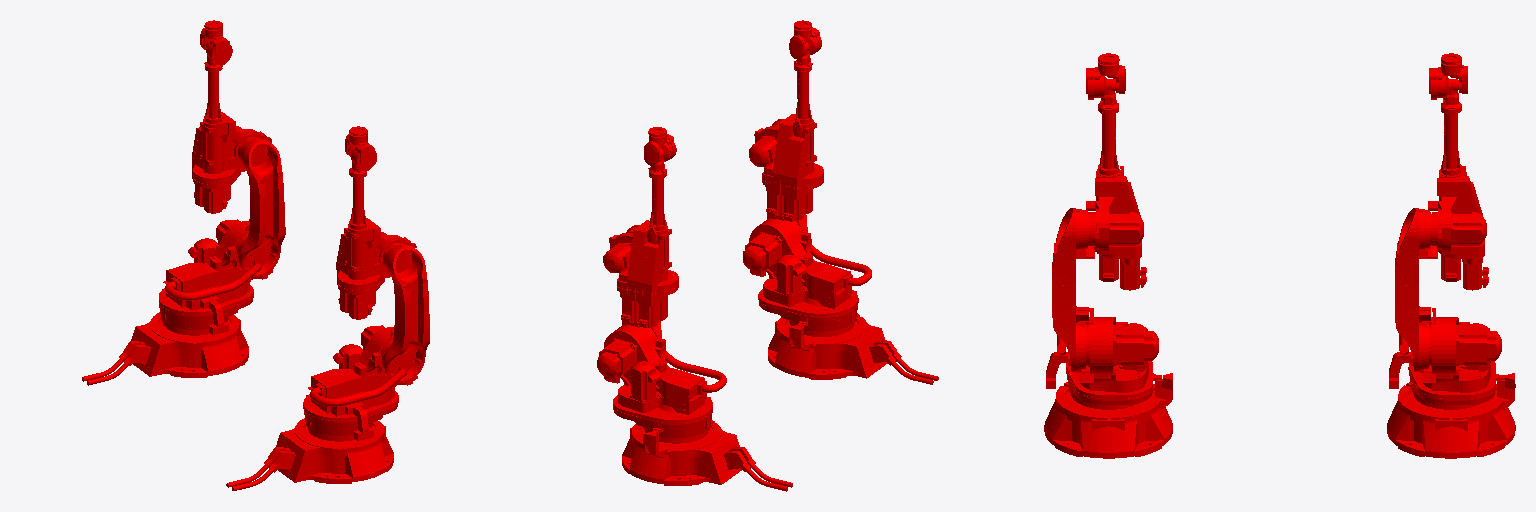
robot.urdf — Smart_NM45_Dual:
<?xml version="1.0" ?>
<!-- =================================================================================== -->
<!-- |    This document was autogenerated by xacro from NM45_teleop_dual.xacro         | -->
<!-- |    EDITING THIS FILE BY HAND IS NOT RECOMMENDED                                 | -->
<!-- =================================================================================== -->
<robot name="Smart_NM45_Dual" xmlns:xacro="http://ros.org/wiki/xacro">
  <link name="base_link">
		</link>
  <link name="link0_1">
    <visual>
      <geometry>
        <mesh filename="package://comau_config/meshes/visual/NM-45_Base.STL"/>
      </geometry>
      <material name="red">
        <color rgba="1 0 0 1"/>
      </material>
    </visual>
    <collision>
      <geometry>
        <mesh filename="package://comau_config/meshes/collision/NM-45_Base_CH.STL"/>
      </geometry>
      <material name="yellow">
        <color rgba="0 1 1 1"/>
      </material>
    </collision>
  </link>
  <link name="link1_1">
    <visual>
      <origin rpy="0 0 0" xyz="0 0 0"/>
      <geometry>
        <mesh filename="package://comau_config/meshes/visual/NM-45_Link1.STL"/>
      </geometry>
      <material name="red">
        <color rgba="1 0 0 1"/>
      </material>
    </visual>
    <collision>
      <origin rpy="0 0 0" xyz="0 0 0"/>
      <geometry>
        <mesh filename="package://comau_config/meshes/collision/NM-45_Link1_CH.STL"/>
      </geometry>
      <material name="yellow"/>
    </collision>
  </link>
  <link name="link2_1">
    <visual>
      <origin rpy="0 0 0" xyz="0 0 0"/>
      <geometry>
        <mesh filename="package://comau_config/meshes/visual/NM-45_Link2.STL"/>
      </geometry>
      <material name="red"/>
    </visual>
    <collision>
      <origin rpy="0 0 0" xyz="0 0 0"/>
      <geometry>
        <mesh filename="package://comau_config/meshes/collision/NM-45_Link2_CH.STL"/>
      </geometry>
      <material name="yellow"/>
    </collision>
  </link>
  <link name="link3_1">
    <visual>
      <origin rpy="0 0 0" xyz="0 0 0"/>
      <geometry>
        <mesh filename="package://comau_config/meshes/visual/NM-45_Link3.STL"/>
      </geometry>
      <material name="red"/>
    </visual>
    <collision>
      <origin rpy="0 0 0" xyz="0 0 0"/>
      <geometry>
        <mesh filename="package://comau_config/meshes/collision/NM-45_Link3_CH.STL"/>
      </geometry>
      <material name="yellow"/>
    </collision>
  </link>
  <link name="link4_1">
    <visual>
      <origin rpy="0 0 0" xyz="0 0 0"/>
      <geometry>
        <mesh filename="package://comau_config/meshes/visual/NM-45_Link4.STL"/>
      </geometry>
      <material name="red"/>
    </visual>
    <collision>
      <origin rpy="0 0 0" xyz="0 0 0"/>
      <geometry>
        <mesh filename="package://comau_config/meshes/collision/NM-45_Link4_CH.STL"/>
      </geometry>
      <material name="yellow"/>
    </collision>
  </link>
  <link name="link5_1">
    <visual>
      <origin rpy="0 0 0" xyz="0 0 0"/>
      <geometry>
        <mesh filename="package://comau_config/meshes/visual/NM-45_Link5.STL"/>
      </geometry>
      <material name="red"/>
    </visual>
    <collision>
      <origin rpy="0 0 0" xyz="0 0 0"/>
      <geometry>
        <mesh filename="package://comau_config/meshes/collision/NM-45_Link5_CH.STL"/>
      </geometry>
      <material name="yellow"/>
    </collision>
  </link>
  <link name="link6_1">
    <visual>
      <origin rpy="0 0 0" xyz="0 0 0"/>
      <geometry>
        <mesh filename="package://comau_config/meshes/visual/NM-45_Link6.STL"/>
      </geometry>
      <material name="red"/>
    </visual>
    <collision>
      <origin rpy="0 0 0" xyz="0 0 0"/>
      <geometry>
        <mesh filename="package://comau_config/meshes/collision/NM-45_Link6_CH.STL"/>
      </geometry>
      <material name="yellow"/>
    </collision>
  </link>
  <link name="link0_2">
    <visual>
      <origin rpy="0 0 0" xyz="0 0 0"/>
      <geometry>
        <mesh filename="package://comau_config/meshes/visual/NM-45_Base.STL"/>
      </geometry>
      <material name="red">
        <color rgba="1 0 0 1"/>
      </material>
    </visual>
    <collision>
      <geometry>
        <mesh filename="package://comau_config/meshes/collision/NM-45_Base_CH.STL"/>
      </geometry>
      <material name="yellow">
        <color rgba="0 1 1 1"/>
      </material>
    </collision>
  </link>
  <link name="link1_2">
    <visual>
      <origin rpy="0 0 0" xyz="0 0 0"/>
      <geometry>
        <mesh filename="package://comau_config/meshes/visual/NM-45_Link1.STL"/>
      </geometry>
      <material name="red">
        <color rgba="1 0 0 1"/>
      </material>
    </visual>
    <collision>
      <origin rpy="0 0 0" xyz="0 0 0"/>
      <geometry>
        <mesh filename="package://comau_config/meshes/collision/NM-45_Link1_CH.STL"/>
      </geometry>
      <material name="yellow"/>
    </collision>
  </link>
  <link name="link2_2">
    <visual>
      <origin rpy="0 0 0" xyz="0 0 0"/>
      <geometry>
        <mesh filename="package://comau_config/meshes/visual/NM-45_Link2.STL"/>
      </geometry>
      <material name="red"/>
    </visual>
    <collision>
      <origin rpy="0 0 0" xyz="0 0 0"/>
      <geometry>
        <mesh filename="package://comau_config/meshes/collision/NM-45_Link2_CH.STL"/>
      </geometry>
      <material name="yellow"/>
    </collision>
  </link>
  <link name="link3_2">
    <visual>
      <origin rpy="0 0 0" xyz="0 0 0"/>
      <geometry>
        <mesh filename="package://comau_config/meshes/visual/NM-45_Link3.STL"/>
      </geometry>
      <material name="red"/>
    </visual>
    <collision>
      <origin rpy="0 0 0" xyz="0 0 0"/>
      <geometry>
        <mesh filename="package://comau_config/meshes/collision/NM-45_Link3_CH.STL"/>
      </geometry>
      <material name="yellow"/>
    </collision>
  </link>
  <link name="link4_2">
    <visual>
      <origin rpy="0 0 0" xyz="0 0 0"/>
      <geometry>
        <mesh filename="package://comau_config/meshes/visual/NM-45_Link4.STL"/>
      </geometry>
      <material name="red"/>
    </visual>
    <collision>
      <origin rpy="0 0 0" xyz="0 0 0"/>
      <geometry>
        <mesh filename="package://comau_config/meshes/collision/NM-45_Link4_CH.STL"/>
      </geometry>
      <material name="yellow"/>
    </collision>
  </link>
  <link name="link5_2">
    <visual>
      <origin rpy="0 0 0" xyz="0 0 0"/>
      <geometry>
        <mesh filename="package://comau_config/meshes/visual/NM-45_Link5.STL"/>
      </geometry>
      <material name="red"/>
    </visual>
    <collision>
      <origin rpy="0 0 0" xyz="0 0 0"/>
      <geometry>
        <mesh filename="package://comau_config/meshes/collision/NM-45_Link5_CH.STL"/>
      </geometry>
      <material name="yellow"/>
    </collision>
  </link>
  <link name="link6_2">
    <visual>
      <origin rpy="0 0 0" xyz="0 0 0"/>
      <geometry>
        <mesh filename="package://comau_config/meshes/visual/NM-45_Link6.STL"/>
      </geometry>
      <material name="red"/>
    </visual>
    <collision>
      <origin rpy="0 0 0" xyz="0 0 0"/>
      <geometry>
        <mesh filename="package://comau_config/meshes/collision/NM-45_Link6_CH.STL"/>
      </geometry>
      <material name="yellow"/>
    </collision>
  </link>
  <joint name="joint0_1" type="fixed">
    <parent link="base_link"/>
    <child link="link0_1"/>
    <origin rpy="0 0 0" xyz="0 0 0"/>
  </joint>
  <joint name="joint1_1" type="revolute">
    <parent link="link0_1"/>
    <child link="link1_1"/>
    <origin rpy="0 0 0" xyz="0 0 0.305"/>
    <axis xyz="0 0 -1"/>
    <limit effort="100" lower="-3.1416" upper="3.1416" velocity="2.26"/>
  </joint>
  <joint name="joint2_1" type="revolute">
    <parent link="link1_1"/>
    <child link="link2_1"/>
    <origin rpy="0 -1.57 0" xyz="0.4 -0.130 0.445"/>
    <axis xyz="0 1 0"/>
    <limit effort="100" lower="-0.733" upper="2.269" velocity="2.26"/>
  </joint>
  <joint name="joint3_1" type="revolute">
    <parent link="link2_1"/>
    <child link="link3_1"/>
    <origin rpy="0 0 0" xyz="0.75 0.01 0"/>
    <axis xyz="0 -1 0"/>
    <limit effort="100" lower="-2.967" upper="1.92" velocity="2.96"/>
  </joint>
  <joint name="joint4_1" type="revolute">
    <parent link="link3_1"/>
    <child link="link4_1"/>
    <origin rpy="0 0 0" xyz="0.234 0.120 0.250"/>
    <axis xyz="-1 0 0"/>
    <limit effort="100" lower="-3.1416" upper="3.1416" velocity="2.96"/>
  </joint>
  <joint name="joint5_1" type="revolute">
    <parent link="link4_1"/>
    <child link="link5_1"/>
    <origin rpy="0 0 0" xyz="0.578 0 0"/>
    <axis xyz="0 1 0"/>
    <limit effort="100" lower="-2.147" upper="2.147" velocity="3.48"/>
  </joint>
  <joint name="joint6_1" type="revolute">
    <parent link="link5_1"/>
    <child link="link6_1"/>
    <origin rpy="0 0 0" xyz="0.150 0 0"/>
    <axis xyz="-1 0 0"/>
    <limit effort="100" lower="-3.1416" upper="3.1416" velocity="3.48"/>
  </joint>
  <joint name="joint0_2" type="fixed">
    <parent link="base_link"/>
    <child link="link0_2"/>
    <origin rpy="0 0 0" xyz="0 -2 0"/>
  </joint>
  <joint name="joint1_2" type="revolute">
    <parent link="link0_2"/>
    <child link="link1_2"/>
    <origin rpy="0 0 0" xyz="0 0 0.305"/>
    <axis xyz="0 0 -1"/>
    <limit effort="100" lower="-3.1416" upper="3.1416" velocity="2.26"/>
  </joint>
  <joint name="joint2_2" type="revolute">
    <parent link="link1_2"/>
    <child link="link2_2"/>
    <origin rpy="0 -1.57 0" xyz="0.4 -0.130 0.445"/>
    <axis xyz="0 1 0"/>
    <limit effort="100" lower="-0.733" upper="2.269" velocity="2.26"/>
  </joint>
  <joint name="joint3_2" type="revolute">
    <parent link="link2_2"/>
    <child link="link3_2"/>
    <origin rpy="0 0 0" xyz="0.75 0.01 0"/>
    <axis xyz="0 -1 0"/>
    <limit effort="100" lower="-2.967" upper="1.92" velocity="2.96"/>
  </joint>
  <joint name="joint4_2" type="revolute">
    <parent link="link3_2"/>
    <child link="link4_2"/>
    <origin rpy="0 0 0" xyz="0.234 0.120 0.250"/>
    <axis xyz="-1 0 0"/>
    <limit effort="100" lower="-3.1416" upper="3.1416" velocity="2.96"/>
  </joint>
  <joint name="joint5_2" type="revolute">
    <parent link="link4_2"/>
    <child link="link5_2"/>
    <origin rpy="0 0 0" xyz="0.578 0 0"/>
    <axis xyz="0 1 0"/>
    <limit effort="100" lower="-2.147" upper="2.147" velocity="3.48"/>
  </joint>
  <joint name="joint6_2" type="revolute">
    <parent link="link5_2"/>
    <child link="link6_2"/>
    <origin rpy="0 0 0" xyz="0.150 0 0"/>
    <axis xyz="-1 0 0"/>
    <limit effort="100" lower="-3.1416" upper="3.1416" velocity="3.48"/>
  </joint>
  <link name="finger_1_link_0">
    <visual>
      <origin rpy="0 0 0" xyz="0.020 0 0"/>
      <geometry>
        <mesh filename="package://robotiq_s_model_visualization/meshes/s-model_articulated/visual/link_0.STL"/>
      </geometry>
      <material name="green">
        <color rgba="0 1 0 1"/>
      </material>
    </visual>
    <collision>
      <origin rpy="0 3.1416 -1.57" xyz="-0.0455 0.0414 0.036"/>
      <geometry>
        <mesh filename="package://robotiq_s_model_visualization/meshes/s-model_articulated/collision/link_0.STL"/>
      </geometry>
      <material name="yellow">
        <color rgba="0 1 1 1"/>
      </material>
    </collision>
  </link>
  <link name="finger_1_link_1">
    <visual>
      <origin rpy="0 0 -0.52" xyz="0.050 -.028 0"/>
      <geometry>
        <mesh filename="package://robotiq_s_model_visualization/meshes/s-model_articulated/visual/link_1.STL"/>
      </geometry>
      <material name="green"/>
    </visual>
    <collision>
      <origin rpy="0 0 -0.52" xyz="0.050 -.028 0"/>
      <geometry>
        <mesh filename="package://robotiq_s_model_visualization/meshes/s-model_articulated/collision/link_1.STL"/>
      </geometry>
      <material name="yellow"/>
    </collision>
  </link>
  <link name="finger_1_link_2">
    <!--
			NOTE: This link has an offset in the z-direction based on the models that were
			used to generate grap-it poses.  With the offset below the model appears visually
			correct, but it is suspect.
			-->
    <visual>
      <origin rpy="0 0 0" xyz="0.039 0 0.0075"/>
      <geometry>
        <mesh filename="package://robotiq_s_model_visualization/meshes/s-model_articulated/visual/link_2.STL"/>
      </geometry>
      <material name="green"/>
    </visual>
    <collision>
      <origin rpy="0 0 0" xyz="0.039 0 0.0075"/>
      <geometry>
        <mesh filename="package://robotiq_s_model_visualization/meshes/s-model_articulated/collision/link_2.STL"/>
      </geometry>
      <material name="yellow"/>
    </collision>
  </link>
  <link name="finger_1_link_3">
    <visual>
      <origin rpy="0 0 0.52" xyz="0 0 0"/>
      <geometry>
        <mesh filename="package://robotiq_s_model_visualization/meshes/s-model_articulated/visual/link_3.STL"/>
      </geometry>
      <material name="green"/>
    </visual>
    <collision>
      <origin rpy="0 0 0.52" xyz="0 0 0"/>
      <geometry>
        <mesh filename="package://robotiq_s_model_visualization/meshes/s-model_articulated/collision/link_3.STL"/>
      </geometry>
      <material name="yellow"/>
    </collision>
  </link>
  <joint name="finger_1_joint_1" type="revolute">
    <parent link="finger_1_link_0"/>
    <child link="finger_1_link_1"/>
    <axis xyz="0 0 1"/>
    <origin rpy="0 0 0" xyz="0.020 0 0"/>
    <limit effort="100" lower="0" upper="3.1416" velocity="100"/>
  </joint>
  <joint name="finger_1_joint_2" type="revolute">
    <parent link="finger_1_link_1"/>
    <child link="finger_1_link_2"/>
    <axis xyz="0 0 1"/>
    <origin rpy="0 0 -0.52" xyz="0.050 -.028 0"/>
    <limit effort="100" lower="0" upper="3.1416" velocity="100"/>
  </joint>
  <joint name="finger_1_joint_3" type="revolute">
    <parent link="finger_1_link_2"/>
    <child link="finger_1_link_3"/>
    <axis xyz="0 0 1"/>
    <origin rpy="0 0 0" xyz="0.039 0 0"/>
    <limit effort="100" lower="0" upper="3.1416" velocity="100"/>
  </joint>
  <link name="finger_2_link_0">
    <visual>
      <origin rpy="0 0 0" xyz="0.020 0 0"/>
      <geometry>
        <mesh filename="package://robotiq_s_model_visualization/meshes/s-model_articulated/visual/link_0.STL"/>
      </geometry>
      <material name="green">
        <color rgba="0 1 0 1"/>
      </material>
    </visual>
    <collision>
      <origin rpy="0 3.1416 -1.57" xyz="-0.0455 0.0414 0.036"/>
      <geometry>
        <mesh filename="package://robotiq_s_model_visualization/meshes/s-model_articulated/collision/link_0.STL"/>
      </geometry>
      <material name="yellow">
        <color rgba="0 1 1 1"/>
      </material>
    </collision>
  </link>
  <link name="finger_2_link_1">
    <visual>
      <origin rpy="0 0 -0.52" xyz="0.050 -.028 0"/>
      <geometry>
        <mesh filename="package://robotiq_s_model_visualization/meshes/s-model_articulated/visual/link_1.STL"/>
      </geometry>
      <material name="green"/>
    </visual>
    <collision>
      <origin rpy="0 0 -0.52" xyz="0.050 -.028 0"/>
      <geometry>
        <mesh filename="package://robotiq_s_model_visualization/meshes/s-model_articulated/collision/link_1.STL"/>
      </geometry>
      <material name="yellow"/>
    </collision>
  </link>
  <link name="finger_2_link_2">
    <!--
			NOTE: This link has an offset in the z-direction based on the models that were
			used to generate grap-it poses.  With the offset below the model appears visually
			correct, but it is suspect.
			-->
    <visual>
      <origin rpy="0 0 0" xyz="0.039 0 0.0075"/>
      <geometry>
        <mesh filename="package://robotiq_s_model_visualization/meshes/s-model_articulated/visual/link_2.STL"/>
      </geometry>
      <material name="green"/>
    </visual>
    <collision>
      <origin rpy="0 0 0" xyz="0.039 0 0.0075"/>
      <geometry>
        <mesh filename="package://robotiq_s_model_visualization/meshes/s-model_articulated/collision/link_2.STL"/>
      </geometry>
      <material name="yellow"/>
    </collision>
  </link>
  <link name="finger_2_link_3">
    <visual>
      <origin rpy="0 0 0.52" xyz="0 0 0"/>
      <geometry>
        <mesh filename="package://robotiq_s_model_visualization/meshes/s-model_articulated/visual/link_3.STL"/>
      </geometry>
      <material name="green"/>
    </visual>
    <collision>
      <origin rpy="0 0 0.52" xyz="0 0 0"/>
      <geometry>
        <mesh filename="package://robotiq_s_model_visualization/meshes/s-model_articulated/collision/link_3.STL"/>
      </geometry>
      <material name="yellow"/>
    </collision>
  </link>
  <joint name="finger_2_joint_1" type="revolute">
    <parent link="finger_2_link_0"/>
    <child link="finger_2_link_1"/>
    <axis xyz="0 0 1"/>
    <origin rpy="0 0 0" xyz="0.020 0 0"/>
    <limit effort="100" lower="0" upper="3.1416" velocity="100"/>
  </joint>
  <joint name="finger_2_joint_2" type="revolute">
    <parent link="finger_2_link_1"/>
    <child link="finger_2_link_2"/>
    <axis xyz="0 0 1"/>
    <origin rpy="0 0 -0.52" xyz="0.050 -.028 0"/>
    <limit effort="100" lower="0" upper="3.1416" velocity="100"/>
  </joint>
  <joint name="finger_2_joint_3" type="revolute">
    <parent link="finger_2_link_2"/>
    <child link="finger_2_link_3"/>
    <axis xyz="0 0 1"/>
    <origin rpy="0 0 0" xyz="0.039 0 0"/>
    <limit effort="100" lower="0" upper="3.1416" velocity="100"/>
  </joint>
  <link name="finger_middle_link_0">
    <visual>
      <origin rpy="0 0 0" xyz="0.020 0 0"/>
      <geometry>
        <mesh filename="package://robotiq_s_model_visualization/meshes/s-model_articulated/visual/link_0.STL"/>
      </geometry>
      <material name="green">
        <color rgba="0 1 0 1"/>
      </material>
    </visual>
    <collision>
      <origin rpy="0 3.1416 -1.57" xyz="-0.0455 0.0414 0.036"/>
      <geometry>
        <mesh filename="package://robotiq_s_model_visualization/meshes/s-model_articulated/collision/link_0.STL"/>
      </geometry>
      <material name="yellow">
        <color rgba="0 1 1 1"/>
      </material>
    </collision>
  </link>
  <link name="finger_middle_link_1">
    <visual>
      <origin rpy="0 0 -0.52" xyz="0.050 -.028 0"/>
      <geometry>
        <mesh filename="package://robotiq_s_model_visualization/meshes/s-model_articulated/visual/link_1.STL"/>
      </geometry>
      <material name="green"/>
    </visual>
    <collision>
      <origin rpy="0 0 -0.52" xyz="0.050 -.028 0"/>
      <geometry>
        <mesh filename="package://robotiq_s_model_visualization/meshes/s-model_articulated/collision/link_1.STL"/>
      </geometry>
      <material name="yellow"/>
    </collision>
  </link>
  <link name="finger_middle_link_2">
    <!--
			NOTE: This link has an offset in the z-direction based on the models that were
			used to generate grap-it poses.  With the offset below the model appears visually
			correct, but it is suspect.
			-->
    <visual>
      <origin rpy="0 0 0" xyz="0.039 0 0.0075"/>
      <geometry>
        <mesh filename="package://robotiq_s_model_visualization/meshes/s-model_articulated/visual/link_2.STL"/>
      </geometry>
      <material name="green"/>
    </visual>
    <collision>
      <origin rpy="0 0 0" xyz="0.039 0 0.0075"/>
      <geometry>
        <mesh filename="package://robotiq_s_model_visualization/meshes/s-model_articulated/collision/link_2.STL"/>
      </geometry>
      <material name="yellow"/>
    </collision>
  </link>
  <link name="finger_middle_link_3">
    <visual>
      <origin rpy="0 0 0.52" xyz="0 0 0"/>
      <geometry>
        <mesh filename="package://robotiq_s_model_visualization/meshes/s-model_articulated/visual/link_3.STL"/>
      </geometry>
      <material name="green"/>
    </visual>
    <collision>
      <origin rpy="0 0 0.52" xyz="0 0 0"/>
      <geometry>
        <mesh filename="package://robotiq_s_model_visualization/meshes/s-model_articulated/collision/link_3.STL"/>
      </geometry>
      <material name="yellow"/>
    </collision>
  </link>
  <joint name="finger_middle_joint_1" type="revolute">
    <parent link="finger_middle_link_0"/>
    <child link="finger_middle_link_1"/>
    <axis xyz="0 0 1"/>
    <origin rpy="0 0 0" xyz="0.020 0 0"/>
    <limit effort="100" lower="0" upper="3.1416" velocity="100"/>
  </joint>
  <joint name="finger_middle_joint_2" type="revolute">
    <parent link="finger_middle_link_1"/>
    <child link="finger_middle_link_2"/>
    <axis xyz="0 0 1"/>
    <origin rpy="0 0 -0.52" xyz="0.050 -.028 0"/>
    <limit effort="100" lower="0" upper="3.1416" velocity="100"/>
  </joint>
  <joint name="finger_middle_joint_3" type="revolute">
    <parent link="finger_middle_link_2"/>
    <child link="finger_middle_link_3"/>
    <axis xyz="0 0 1"/>
    <origin rpy="0 0 0" xyz="0.039 0 0"/>
    <limit effort="100" lower="0" upper="3.1416" velocity="100"/>
  </joint>
  <link name="palm">
    <visual>
      <geometry>
        <mesh filename="package://robotiq_s_model_visualization/meshes/s-model_articulated/visual/palm.STL"/>
      </geometry>
      <material name="green">
        <color rgba="0 1 0 1"/>
      </material>
    </visual>
    <collision>
      <geometry>
        <mesh filename="package://robotiq_s_model_visualization/meshes/s-model_articulated/collision/palm.STL"/>
      </geometry>
      <material name="yellow">
        <color rgba="0 1 1 1"/>
      </material>
    </collision>
  </link>
  <joint name="palm_finger_1_joint" type="revolute">
    <parent link="palm"/>
    <child link="finger_1_link_0"/>
    <axis xyz="0 1 0"/>
    <origin rpy="0 3.1416 -1.57" xyz="-0.0455 0.0214 0.036"/>
    <limit effort="100" lower="-0.16" upper="0.25" velocity="100"/>
  </joint>
  <joint name="palm_finger_2_joint" type="revolute">
    <parent link="palm"/>
    <child link="finger_2_link_0"/>
    <axis xyz="0 1 0"/>
    <origin rpy="0 3.1416 -1.57" xyz="-0.0455 0.0214 -0.036"/>
    <limit effort="100" lower="-0.25" upper="0.16" velocity="100"/>
  </joint>
  <joint name="palm_finger_middle_joint" type="fixed">
    <parent link="palm"/>
    <child link="finger_middle_link_0"/>
    <axis xyz="0 0 1"/>
    <origin rpy="0 0 1.57" xyz="0.0455 0.0214 0"/>
  </joint>
  <!-- link list -->
  <link name="eff_stack_1">
    <visual>
      <geometry>
        <mesh filename="package://comau_config/meshes/visual/Effector_stack.STL"/>
      </geometry>
      <material name="orange">
        <color rgba="1 0.5 0 1"/>
      </material>
    </visual>
    <collision>
      <geometry>
        <mesh filename="package://comau_config/meshes/collision/Effector_stack_CH.STL"/>
      </geometry>
      <material name="yellow">
        <color rgba="0 1 1 1"/>
      </material>
    </collision>
  </link>
  <link name="eff_stack_2">
    <visual>
      <geometry>
        <mesh filename="package://comau_config/meshes/visual/Effector_stack.STL"/>
      </geometry>
      <material name="orange">
        <color rgba="1 0.5 0 1"/>
      </material>
    </visual>
    <collision>
      <geometry>
        <mesh filename="package://comau_config/meshes/collision/Effector_stack_CH.STL"/>
      </geometry>
      <material name="yellow">
        <color rgba="0 1 1 1"/>
      </material>
    </collision>
  </link>
  <!-- end link list -->
  <!-- joint list -->
  <joint name="flange2stack_1" type="fixed">
    <parent link="link6_1"/>
    <child link="eff_stack_1"/>
    <origin rpy="0 1.57 0" xyz="0.025 0 0"/>
  </joint>
  <joint name="stack2hand_1" type="fixed">
    <parent link="eff_stack_1"/>
    <child link="palm"/>
    <origin rpy="1.57 0 0" xyz="0 0 0.2123"/>
  </joint>
  <joint name="flange2stack_2" type="fixed">
    <parent link="link6_2"/>
    <child link="eff_stack_2"/>
    <origin rpy="0 1.57 0" xyz="0.025 0 0"/>
  </joint>
  <!-- end of joint list -->
</robot>

--- Facts derived from the render (not from the file) ---
3 views of the same robot in one strip: view 1: azimuth 30°, elevation 25°; view 2: azimuth 150°, elevation 25°; view 3: azimuth 270°, elevation 25° (orthographic).
Robot: Smart_NM45_Dual — 30 links, 29 joints (23 revolute, 6 fixed); root link base_link; default pose: all joints at 0.
Visible links, largest first — view 1: link1_2, link1_1, link0_1, link0_2, link2_1, link2_2, link3_2, link3_1, link4_1, link4_2, link5_1, link5_2; view 2: link1_2, link1_1, link0_2, link0_1, link3_1, link3_2, link4_2, link4_1, link5_2, link5_1; view 3: link0_2, link0_1, link1_1, link1_2, link3_1, link3_2, link2_2, link2_1, link4_2, link4_1, link5_2, link5_1.
Boxes of the visible links, bbox=[...] form: link1_2: bbox=[303, 325, 417, 440]; link1_1: bbox=[159, 219, 272, 334]; link0_1: bbox=[82, 289, 248, 385]; link0_2: bbox=[226, 395, 393, 490]; link2_1: bbox=[238, 138, 285, 276]; link2_2: bbox=[383, 244, 429, 382]; link3_2: bbox=[336, 218, 416, 319]; link3_1: bbox=[192, 112, 271, 213]; link4_1: bbox=[204, 40, 222, 123]; link4_2: bbox=[349, 147, 366, 229]; link5_1: bbox=[200, 28, 232, 65]; link5_2: bbox=[345, 133, 376, 171]; link1_2: bbox=[743, 215, 871, 333]; link1_1: bbox=[597, 322, 726, 439]; link0_2: bbox=[768, 313, 938, 384]; link0_1: bbox=[622, 420, 792, 491]; link3_1: bbox=[603, 220, 678, 327]; link3_2: bbox=[749, 114, 823, 221]; link4_2: bbox=[794, 37, 818, 124]; link4_1: bbox=[648, 143, 672, 230]; link5_2: bbox=[789, 27, 821, 58]; link5_1: bbox=[644, 134, 676, 165]; link0_2: bbox=[1044, 373, 1172, 458]; link0_1: bbox=[1387, 373, 1515, 458]; link1_1: bbox=[1389, 308, 1504, 405]; link1_2: bbox=[1046, 308, 1161, 405]; link3_1: bbox=[1428, 166, 1488, 290]; link3_2: bbox=[1086, 166, 1146, 290]; link2_2: bbox=[1052, 208, 1094, 371]; link2_1: bbox=[1395, 208, 1437, 371]; link4_2: bbox=[1094, 76, 1118, 175]; link4_1: bbox=[1437, 76, 1461, 175]; link5_2: bbox=[1086, 61, 1125, 99]; link5_1: bbox=[1429, 61, 1467, 99].
Size in the robot's own frame: 1.46 by 2.75 by 2.49 metres.
14 mesh visuals loaded from 13 distinct referenced files (7 binary STL); not drawn: 15 (reference not matched to a file when rendering).